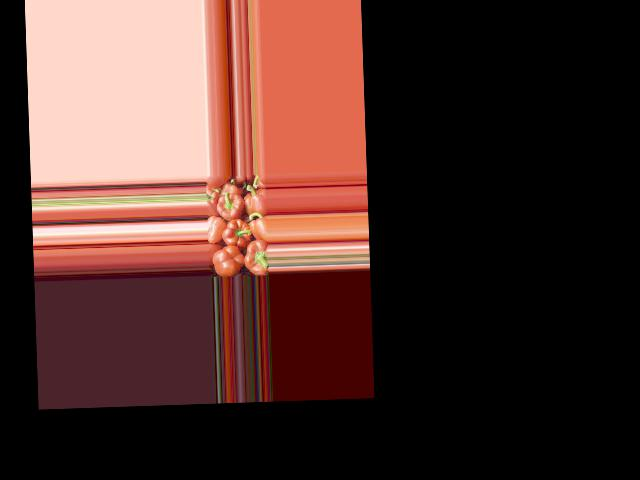bell_pepper: (208, 216, 224, 244)
